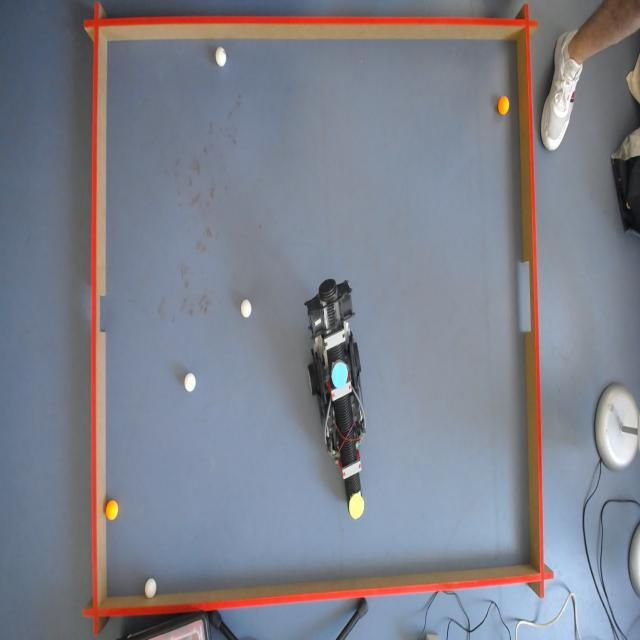orange: (106, 502, 120, 522), (498, 95, 511, 113)
robot: (302, 278, 369, 520)
robot-front: (346, 490, 364, 520)
robot-rear: (329, 358, 349, 389)
white: (144, 578, 156, 599), (240, 298, 252, 318), (216, 46, 228, 66), (186, 372, 197, 393)
